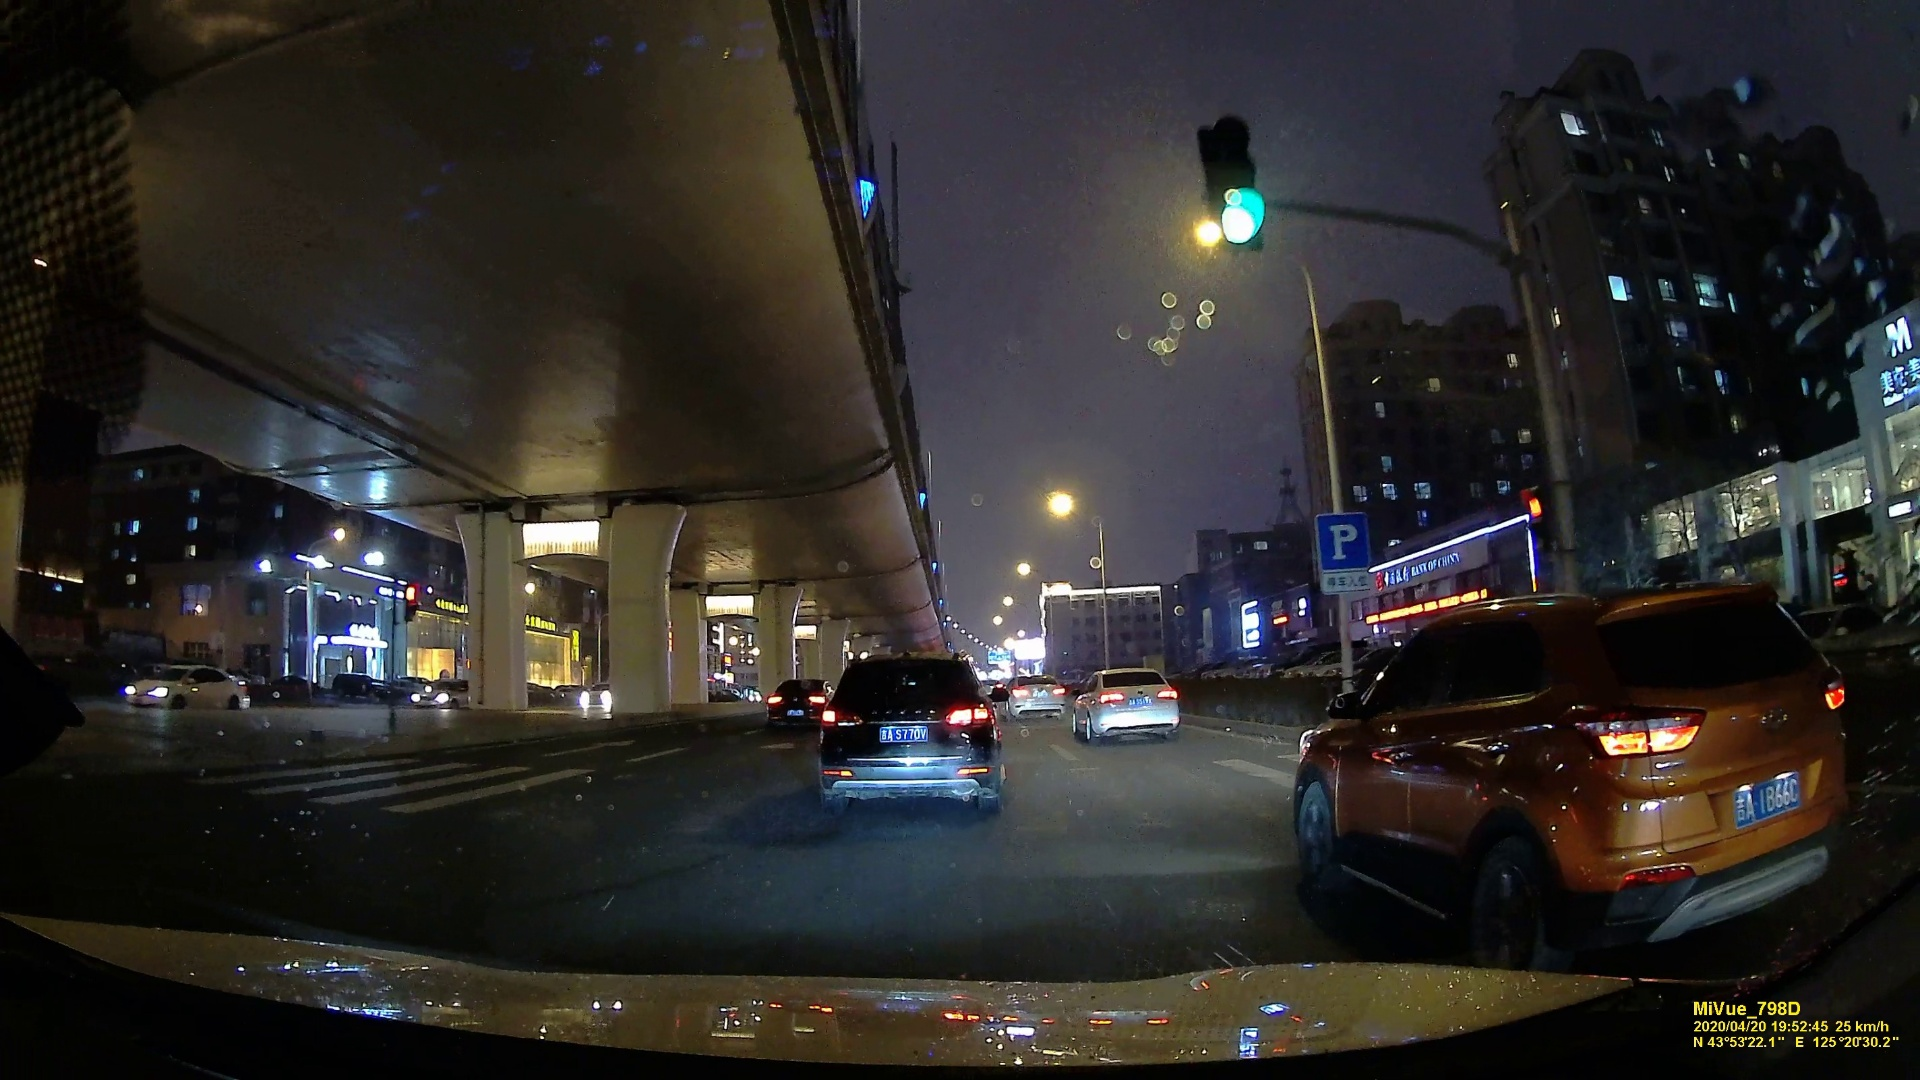traffic_sign: (1209, 131, 1266, 245), (1315, 509, 1379, 593), (1523, 484, 1559, 554)
vehicle: (1280, 589, 1846, 980), (812, 654, 1004, 824), (1072, 666, 1182, 742), (120, 659, 243, 715), (766, 678, 833, 731), (1010, 673, 1065, 717), (574, 682, 612, 713)
